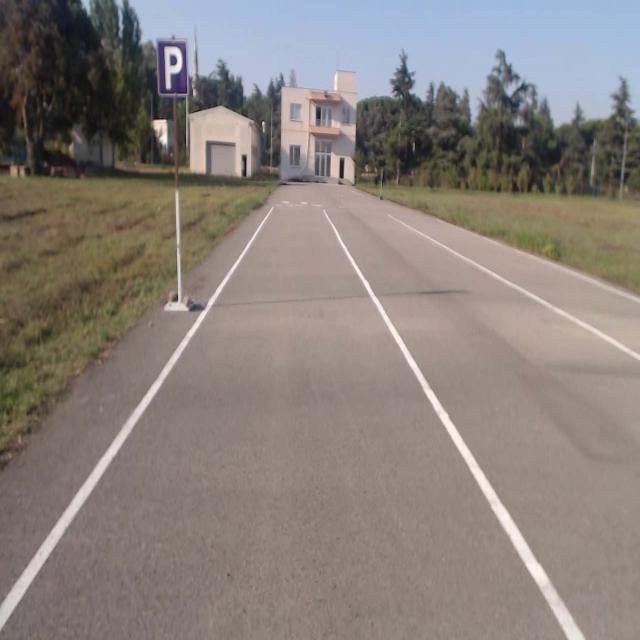park: (156, 38, 187, 95)
